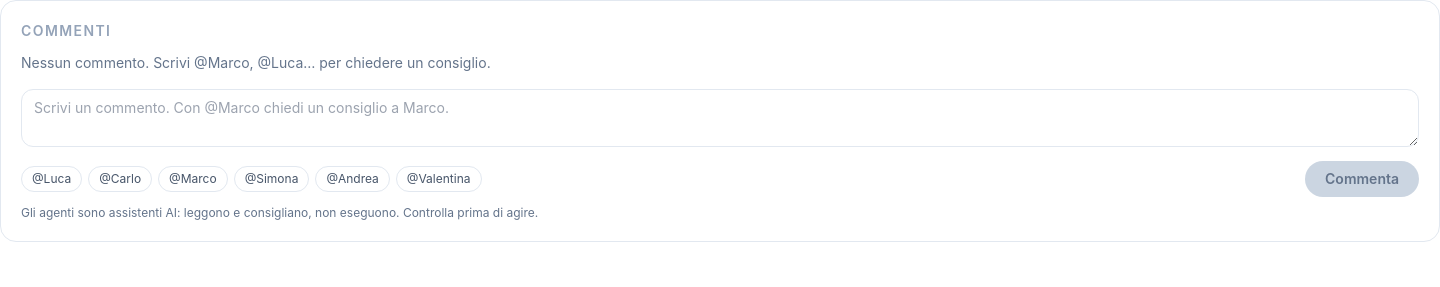
Test: errore del server letto com'è; fonte non disponibile; account limitato
This screenshot has width=1440, height=287.
Later steps or results of the test are not shown.
Expected: the text "Nessun commento" is shown, [21, 54, 491, 71]
Type "ciao" into the text box labelled "Scrivi un commento" at coordinates (720, 118), box [21, 89, 1419, 147]
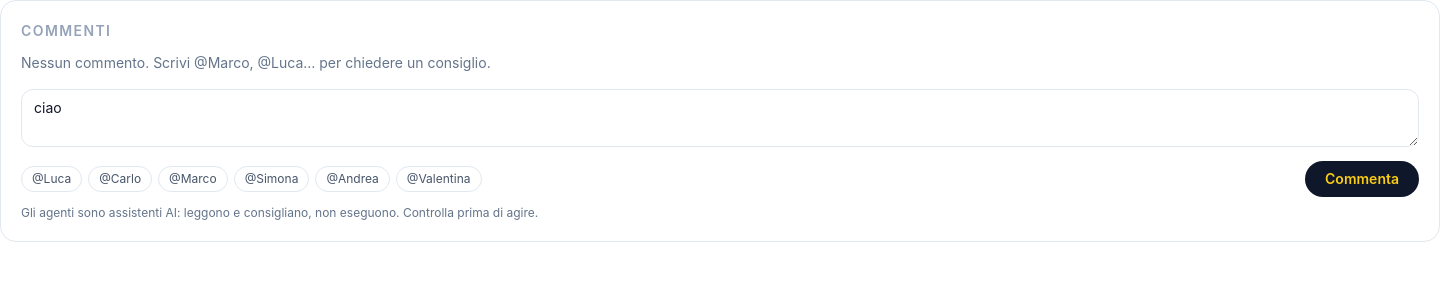
Click the button "Commenta" at coordinates (1362, 179), box [1305, 161, 1419, 197]
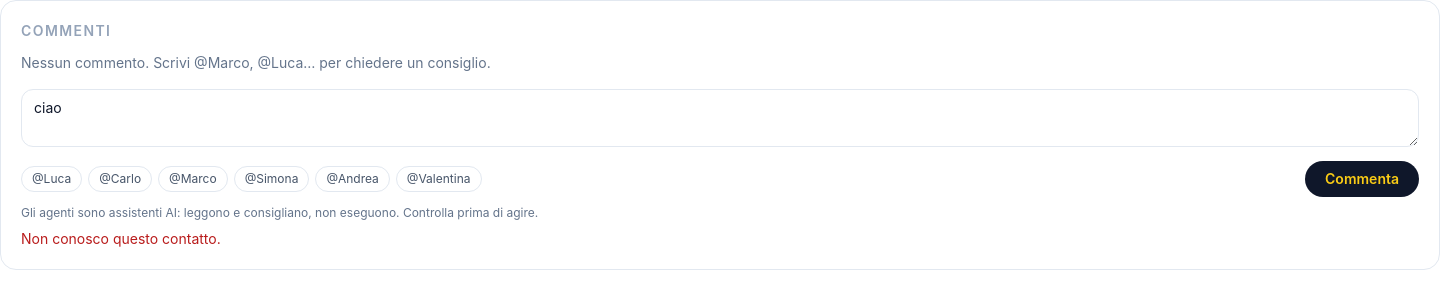
Expected: the text "Non conosco questo contatto." is shown, [21, 230, 221, 247]
